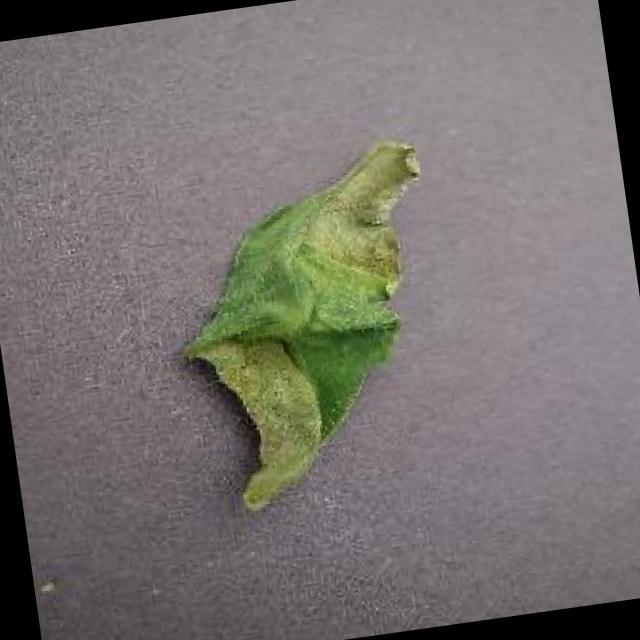Tomato_Late_Blight: (180, 323, 346, 527), (274, 104, 442, 298)
